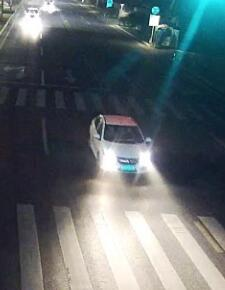car: (87, 111, 156, 179), (21, 7, 40, 21), (42, 2, 57, 14)
